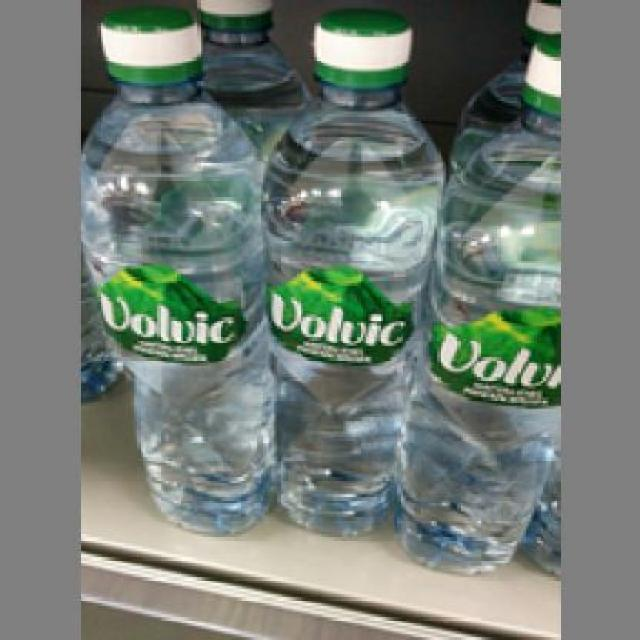Water: (80, 2, 271, 532), (263, 6, 440, 528), (388, 34, 558, 572)
